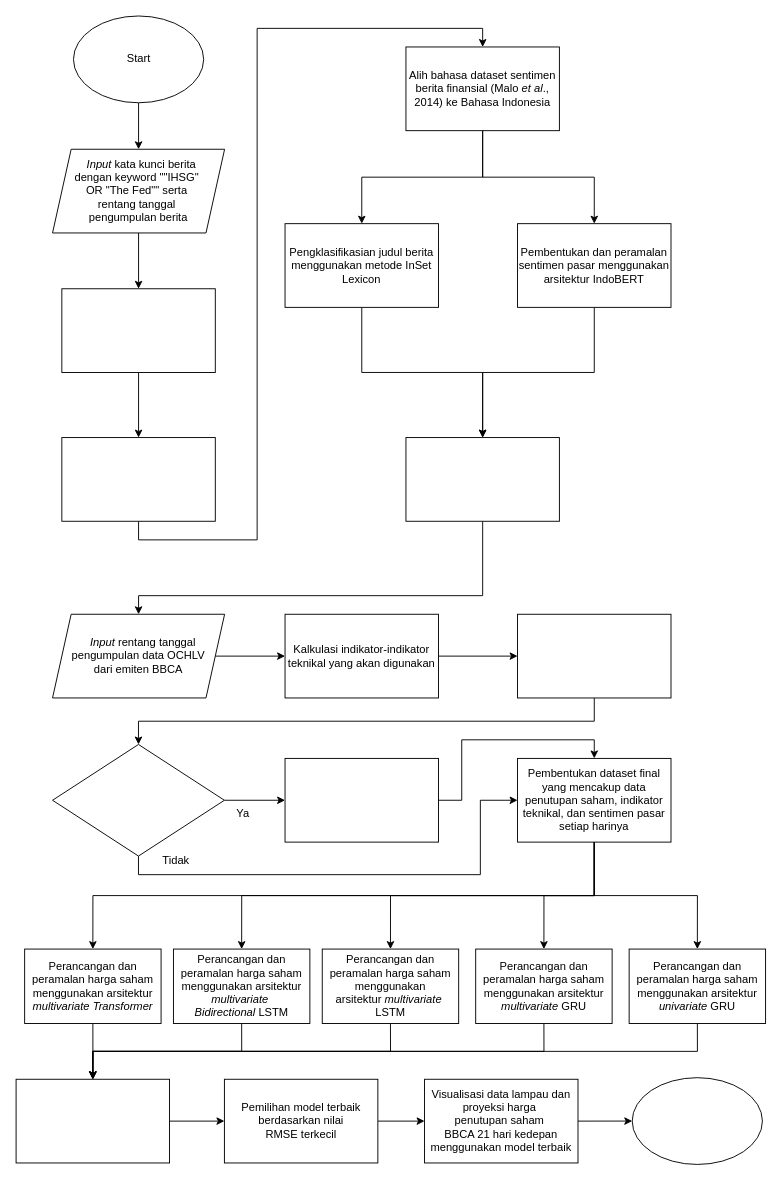
This 782x1181 diagram has some shape labels left out. The centre of each missing label's shape, as x and y in pixels:
"Apakah ada tanggal dengan skor sentimennya kosong?" goes at point (138, 800).
"Berita yang telah disimpan lalu di- preprocessing hingga bersih" goes at point (138, 479).
"Crawling berita dari situs CNN, Tribun, CNBC, dan Kompas lalu disimpan" goes at point (138, 330).
"Finish" goes at point (696, 1120).
"Imputasi menggunakan K-Nearest Neighbors" goes at point (361, 799).
"Kalkulasi rata-rata skor sentimen pasar berdasarkan tanggal" goes at point (594, 655).
"Pemilihan model terbaik berdasarkan akurasi" goes at point (482, 479).
"Perhitungan akurasi masing-masing model menggunakan RMSE" goes at point (92, 1120).
